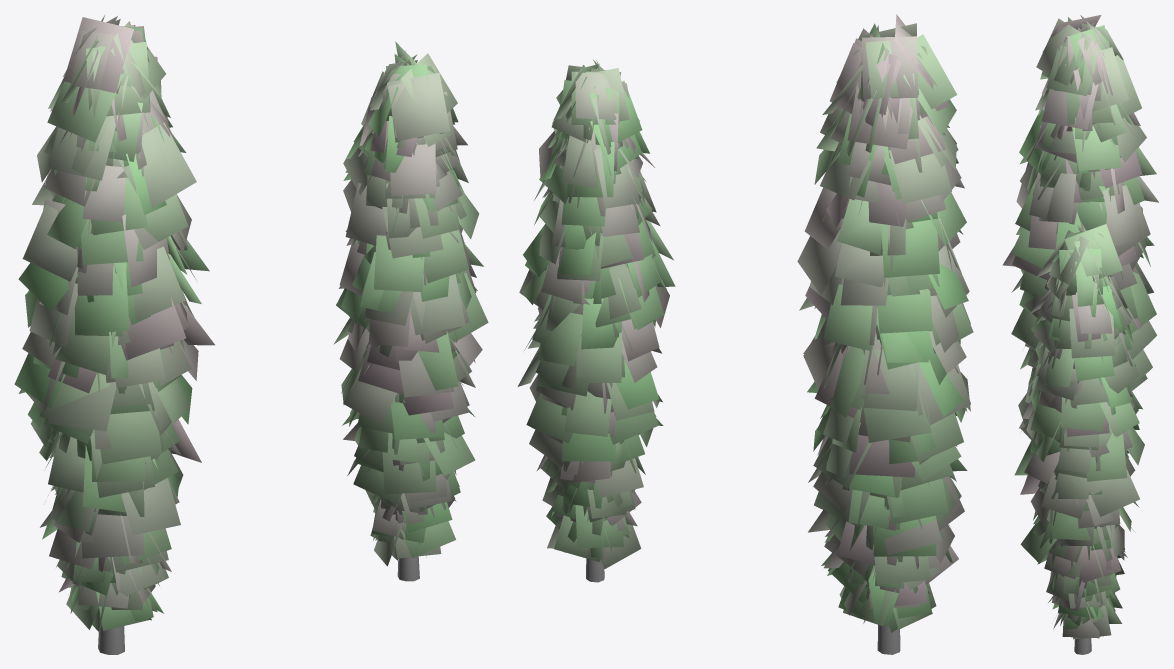
The model's file is Ashoka.fbx.
3 renders of one model, left to right at view 1: azimuth 30°, elevation 25°; view 2: azimuth 150°, elevation 25°; view 3: azimuth 270°, elevation 25°, orthographic. The views are drawn at different scales.
Visible parts, largest first — view 1: Ashoka_A_LOD0, Ashoka_B_LOD0; view 2: Ashoka_A_LOD0, Ashoka_B_LOD0; view 3: Ashoka_B_LOD0, Ashoka_A_LOD0.
Part boxes in pixels (box(x1,y1,x2,y2)): Ashoka_A_LOD0: box(14, 14, 214, 654); Ashoka_B_LOD0: box(333, 41, 488, 581); Ashoka_A_LOD0: box(797, 14, 973, 654); Ashoka_B_LOD0: box(517, 60, 675, 582); Ashoka_B_LOD0: box(1014, 220, 1144, 654); Ashoka_A_LOD0: box(1002, 15, 1158, 457).
Size of what is drawn, in the model's own units: 10.33 by 14.03 by 3.9.
